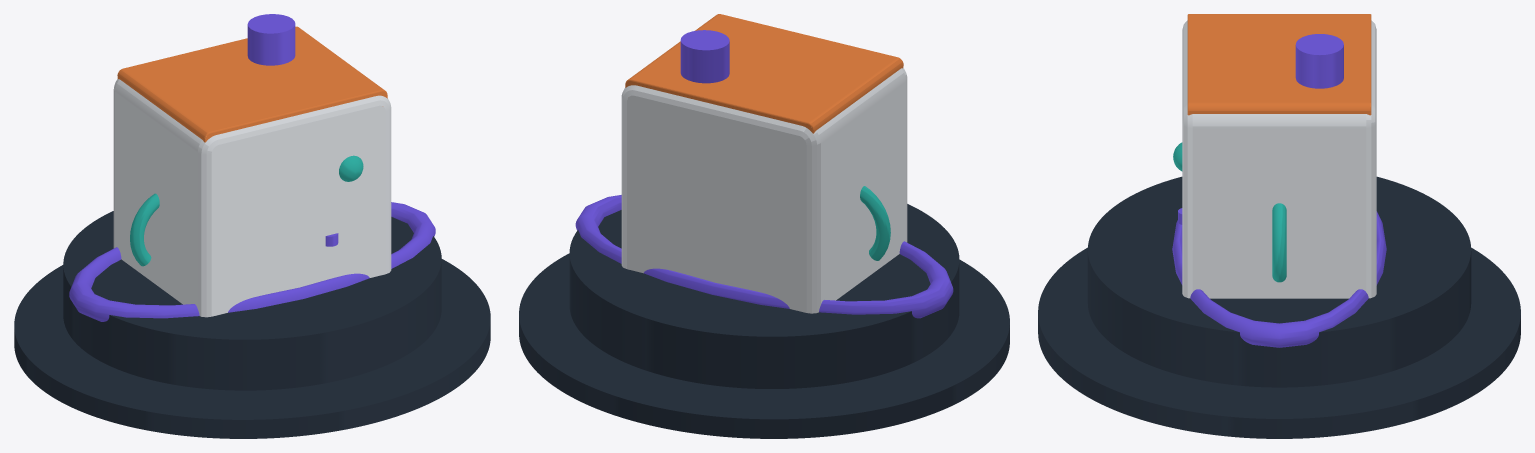
File: 0563_伟大的发明图鉴_瓦特蒸汽机.glb
3 renders of one model, left to right at view 1: azimuth 30°, elevation 25°; view 2: azimuth 150°, elevation 25°; view 3: azimuth 270°, elevation 25°, orthographic. The views are drawn at different scales.
Parts seen in each view (by area): view 1: card_0563; view 2: card_0563; view 3: card_0563.
Boxes of the visible parts, x1,y1,x2,y2 form: card_0563: (14, 14, 490, 438); card_0563: (519, 14, 1009, 438); card_0563: (1038, 14, 1520, 438).
Bounding box in the file's own units: 1.42 × 1 × 1.35.
